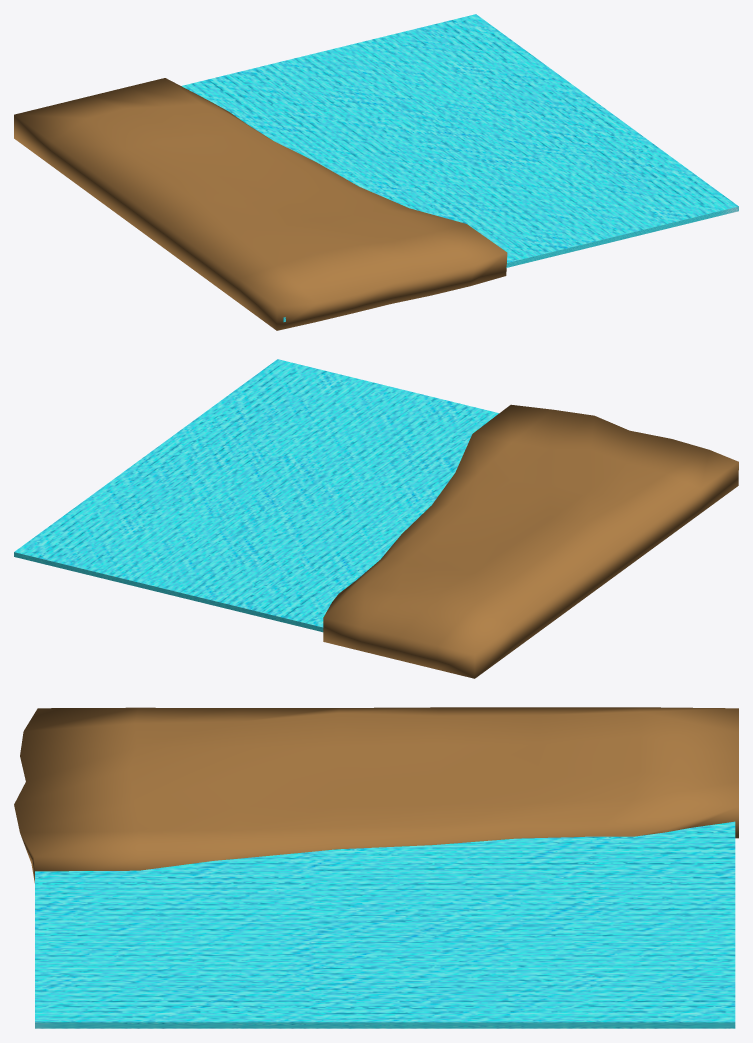
File: beach.fbx
3 views of the same model, one above another, from view 1: azimuth 30°, elevation 25°; view 2: azimuth 150°, elevation 25°; view 3: azimuth 270°, elevation 25° (orthographic). The views are drawn at different scales.
Parts seen in each view (by area): view 1: water, Cube; view 2: water, Cube; view 3: water, Cube.
Part boxes in pixels (x1,y1,x2,y2): water: [181, 14, 738, 322]; Cube: [14, 78, 507, 330]; water: [14, 359, 498, 632]; Cube: [323, 404, 738, 678]; water: [35, 821, 735, 1028]; Cube: [14, 707, 738, 882].
Size of the model in its own units: 2025 by 164 by 2070.
